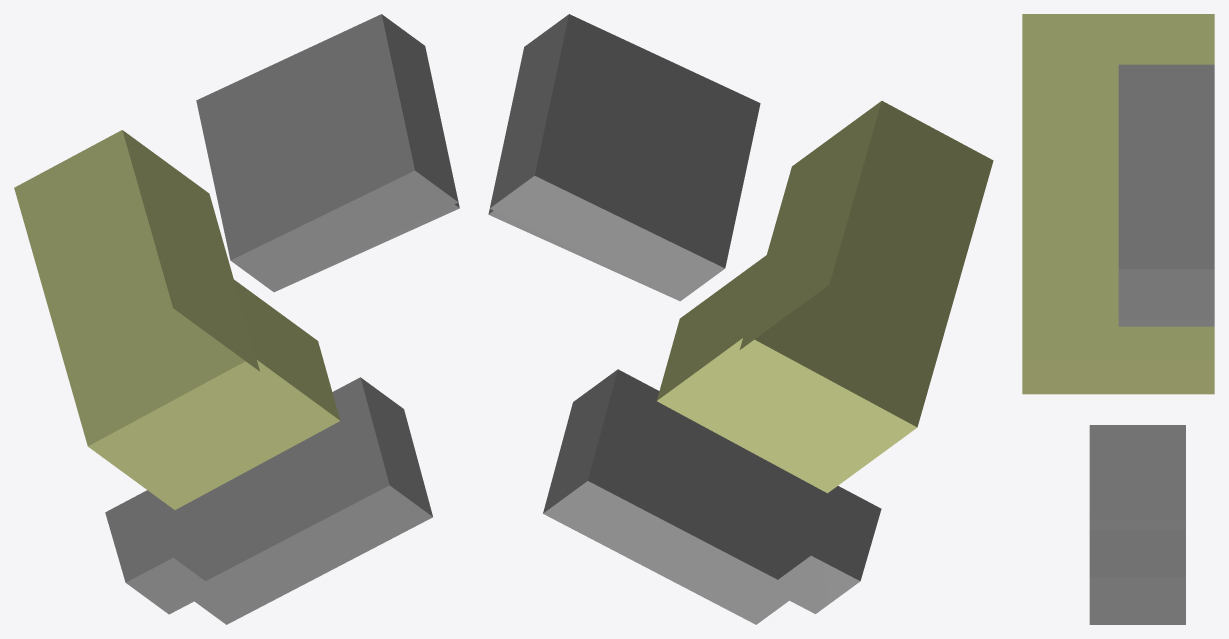
The picture shows the model from 3 angles, left to right: view 1: azimuth 30°, elevation 25°; view 2: azimuth 150°, elevation 25°; view 3: azimuth 270°, elevation 25°; orthographic projection. The views are drawn at different scales.
Parts seen in each view (by area): view 1: 0_1_0_2_0_2_0_0_0_3; view 2: 0_1_0_2_0_2_0_0_0_3; view 3: 0_1_0_2_0_2_0_0_0_3.
Boxes of the visible parts, x1,y1,x2,y2 form: 0_1_0_2_0_2_0_0_0_3: [14, 14, 459, 624]; 0_1_0_2_0_2_0_0_0_3: [488, 14, 993, 624]; 0_1_0_2_0_2_0_0_0_3: [1022, 14, 1214, 624].
Bounding box in the file's own units: 15.99 × 19.67 × 6.
